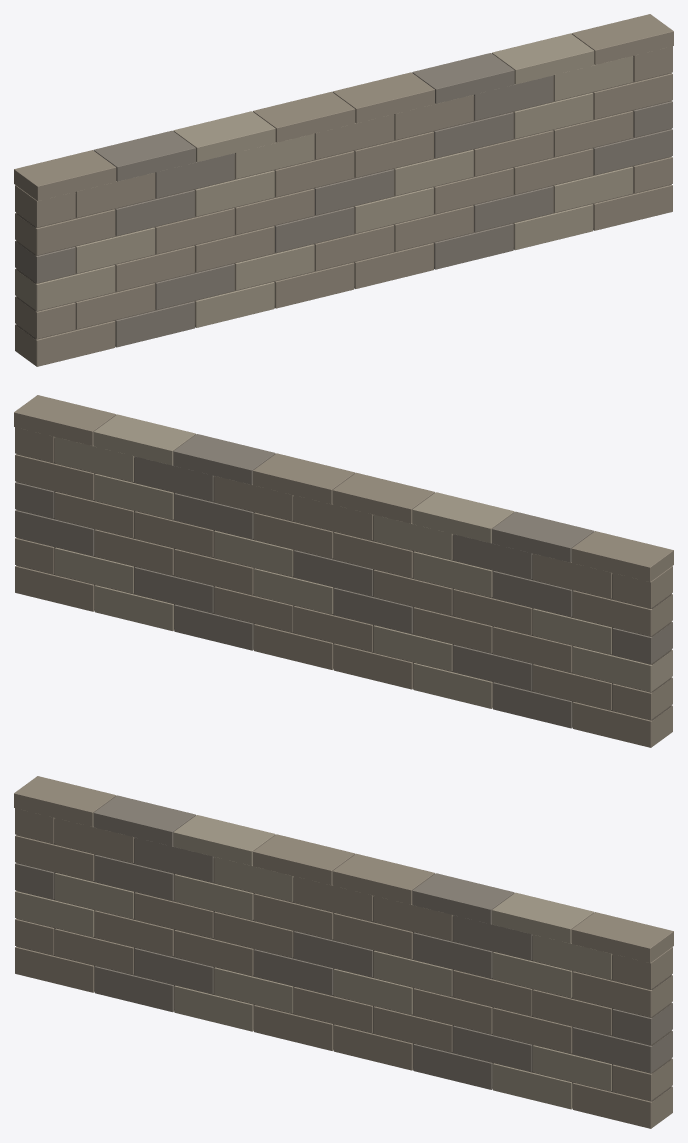
Rendered from WestWall.glb.
3 renders of one model, top to bottom at view 1: azimuth 30°, elevation 25°; view 2: azimuth 150°, elevation 25°; view 3: azimuth 330°, elevation 25°, orthographic.
Parts seen in each view (by area): view 1: WallFacing, WallCap; view 2: WallFacing, WallCap; view 3: WallFacing, WallCap.
Boxes of the visible parts, left/top/right/bottom form: WallFacing: left=15, top=46, right=672, bottom=366; WallCap: left=14, top=14, right=673, bottom=200; WallFacing: left=15, top=427, right=672, bottom=747; WallCap: left=14, top=395, right=673, bottom=581; WallFacing: left=15, top=808, right=672, bottom=1128; WallCap: left=14, top=776, right=673, bottom=962.
Bounding box in the file's own units: 7.69 × 2.09 × 0.5.
